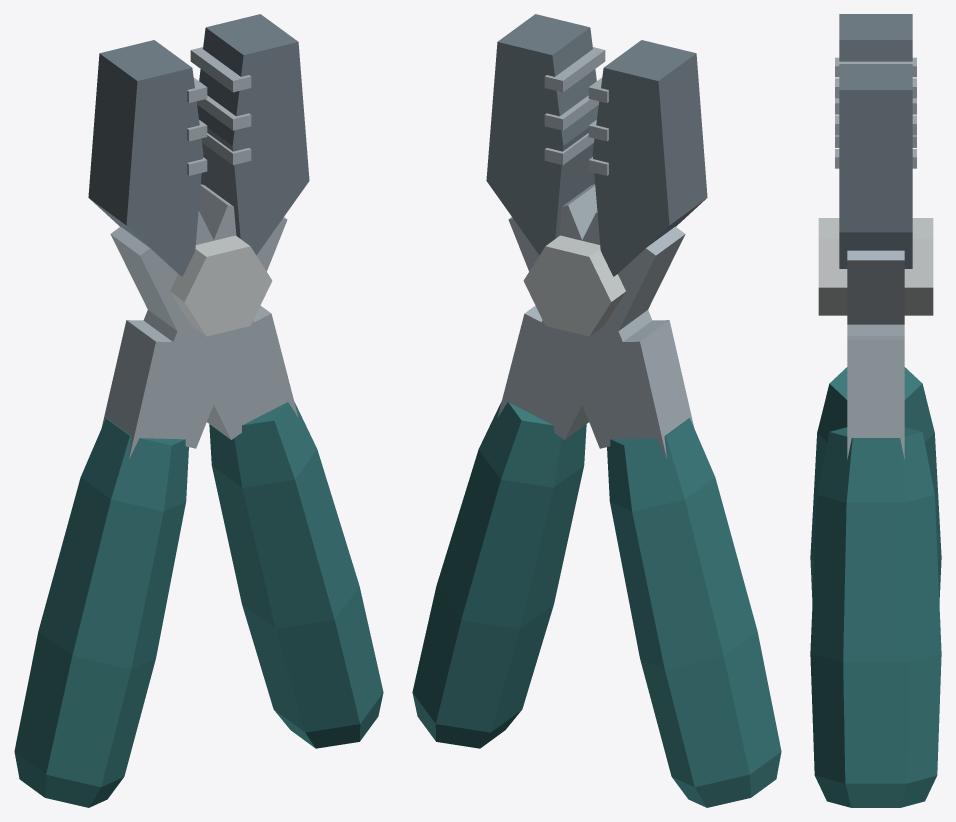
Rendered from b06_combination_pliers.glb.
3 views of the same model, side by side, from view 1: azimuth 30°, elevation 25°; view 2: azimuth 150°, elevation 25°; view 3: azimuth 270°, elevation 25° (orthographic). The views are drawn at different scales.
Parts seen in each view (by area): view 1: b06_combination_pliers; view 2: b06_combination_pliers; view 3: b06_combination_pliers.
Boxes of the visible parts, <box> form: b06_combination_pliers: <box>14,14,383,807</box>; b06_combination_pliers: <box>412,14,781,807</box>; b06_combination_pliers: <box>810,14,941,807</box>.
Bounding box in the file's own units: 0.0922 × 0.1872 × 0.0321.
